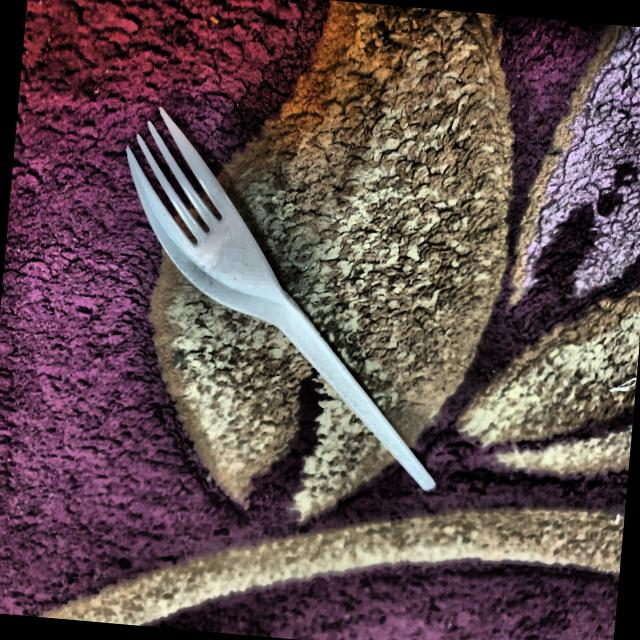plastic utensil: (92, 96, 469, 507)
